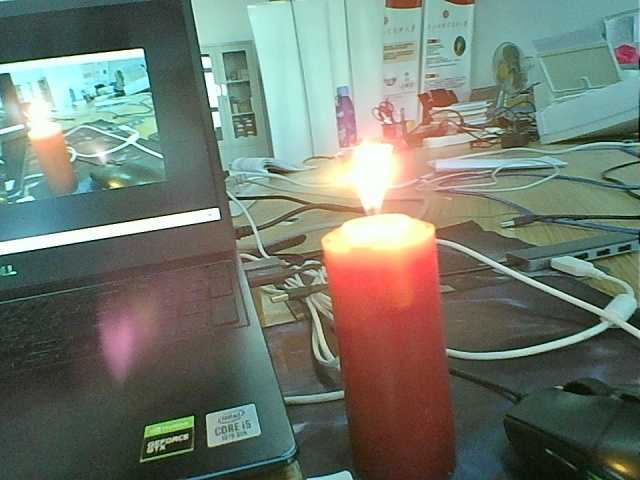candle: (317, 229, 468, 480), (22, 130, 90, 193)
fire: (327, 138, 430, 243), (24, 93, 57, 145)
